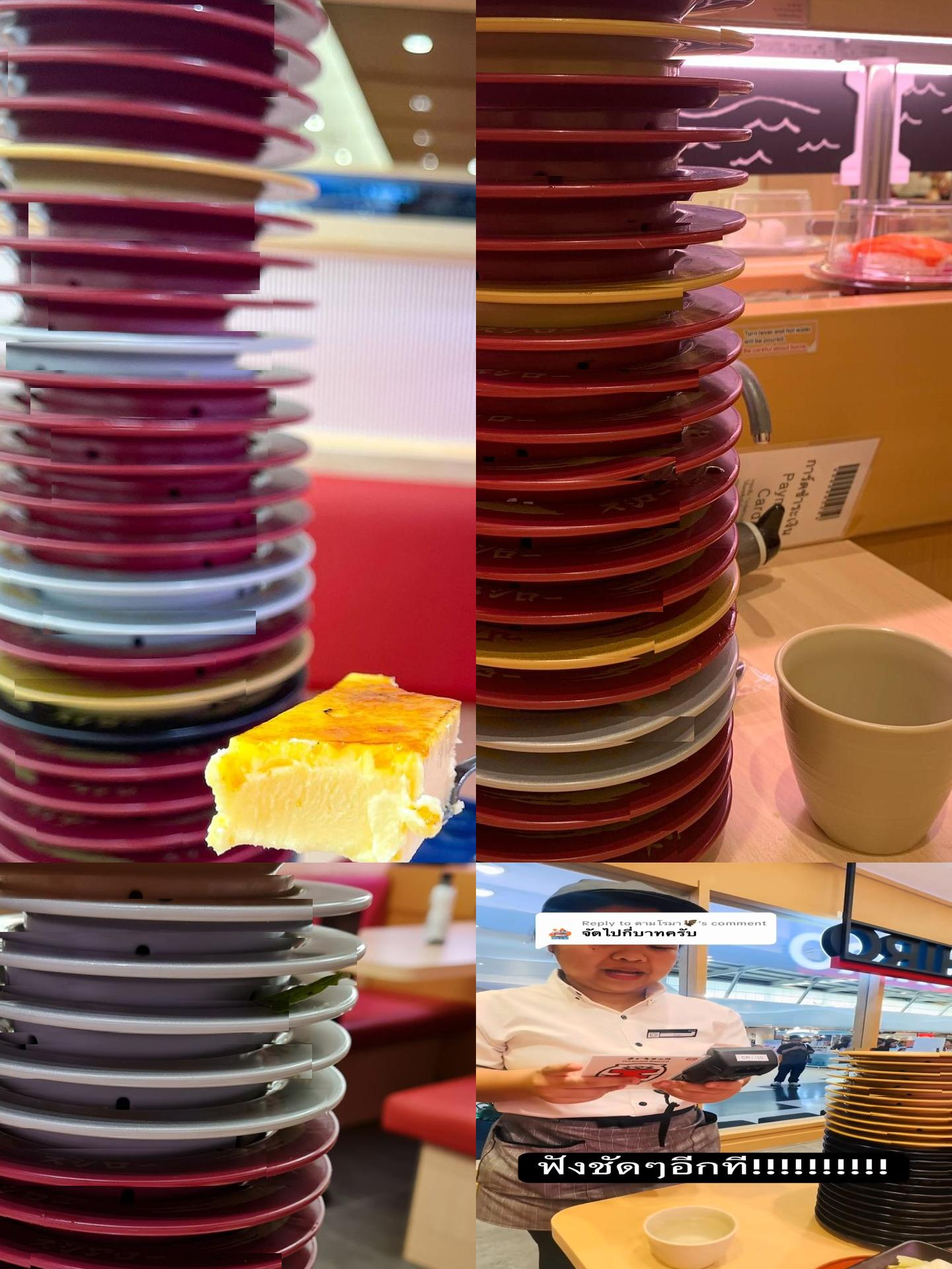Janback: (28, 708, 231, 733)
Jangold: (0, 153, 292, 197), (476, 21, 744, 62), (5, 678, 256, 703), (476, 286, 700, 312), (0, 863, 356, 879), (476, 636, 668, 659)
Janred: (0, 3, 283, 55), (2, 49, 295, 99), (0, 97, 303, 143), (12, 199, 272, 244), (0, 1147, 283, 1188), (33, 292, 289, 334), (19, 250, 273, 292), (41, 426, 278, 467), (476, 120, 746, 155), (34, 514, 260, 554), (21, 387, 286, 420), (0, 1209, 265, 1239), (476, 80, 740, 110), (476, 222, 731, 250), (476, 334, 729, 362), (476, 829, 684, 863), (476, 175, 729, 202), (10, 749, 185, 788), (476, 414, 696, 445), (476, 367, 720, 393), (476, 500, 690, 529), (476, 672, 674, 702), (476, 455, 694, 482), (37, 480, 250, 507), (476, 588, 681, 614), (476, 549, 676, 575), (15, 1252, 298, 1269), (476, 796, 645, 823), (26, 823, 193, 849), (8, 795, 177, 816), (56, 655, 230, 668), (36, 857, 165, 863)
Janwhite: (0, 937, 362, 987), (0, 1089, 333, 1129), (0, 896, 338, 935), (0, 1043, 321, 1080), (0, 998, 315, 1035), (1, 563, 271, 605), (0, 340, 288, 372), (476, 715, 711, 744), (30, 609, 270, 636), (476, 753, 686, 778)
